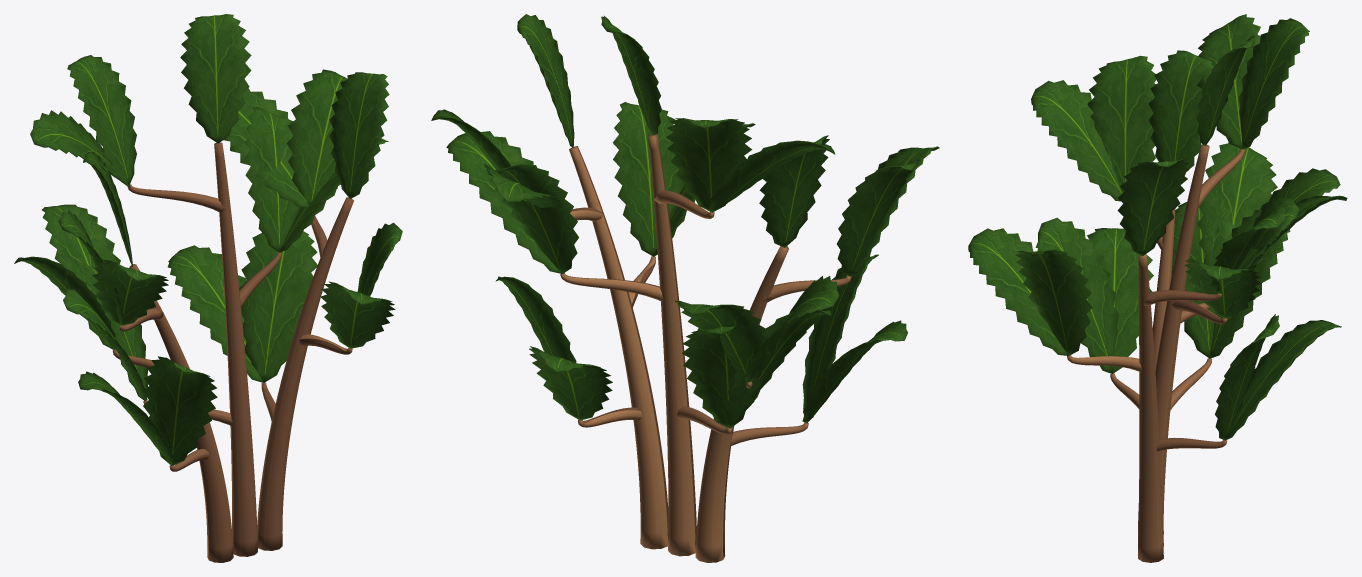
Rendered from NP_Blackberry_Young.fbx.
The picture shows the model from 3 angles, left to right: view 1: azimuth 30°, elevation 25°; view 2: azimuth 150°, elevation 25°; view 3: azimuth 270°, elevation 25°; orthographic projection. The views are drawn at different scales.
Visible parts, largest first — view 1: NP_Blackberry_Young; view 2: NP_Blackberry_Young; view 3: NP_Blackberry_Young.
Boxes of the visible parts, <box> form: NP_Blackberry_Young: <box>14,14,402,562</box>; NP_Blackberry_Young: <box>431,14,939,562</box>; NP_Blackberry_Young: <box>968,14,1347,562</box>.
Size of the model in its own units: 49.6 by 64.11 by 43.03.
